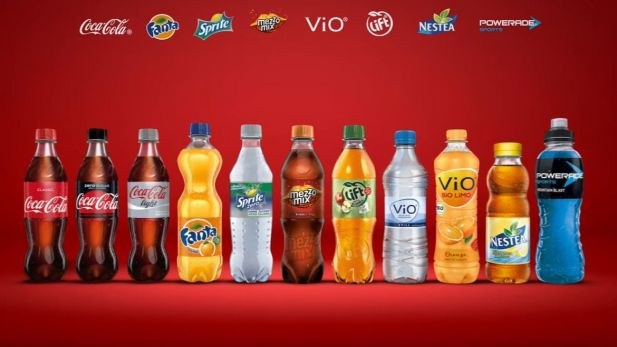Coca-Cola: (25, 123, 65, 279), (75, 121, 115, 276), (128, 125, 167, 281)
Fanta: (179, 121, 218, 277)
Sprite: (230, 125, 270, 281)
